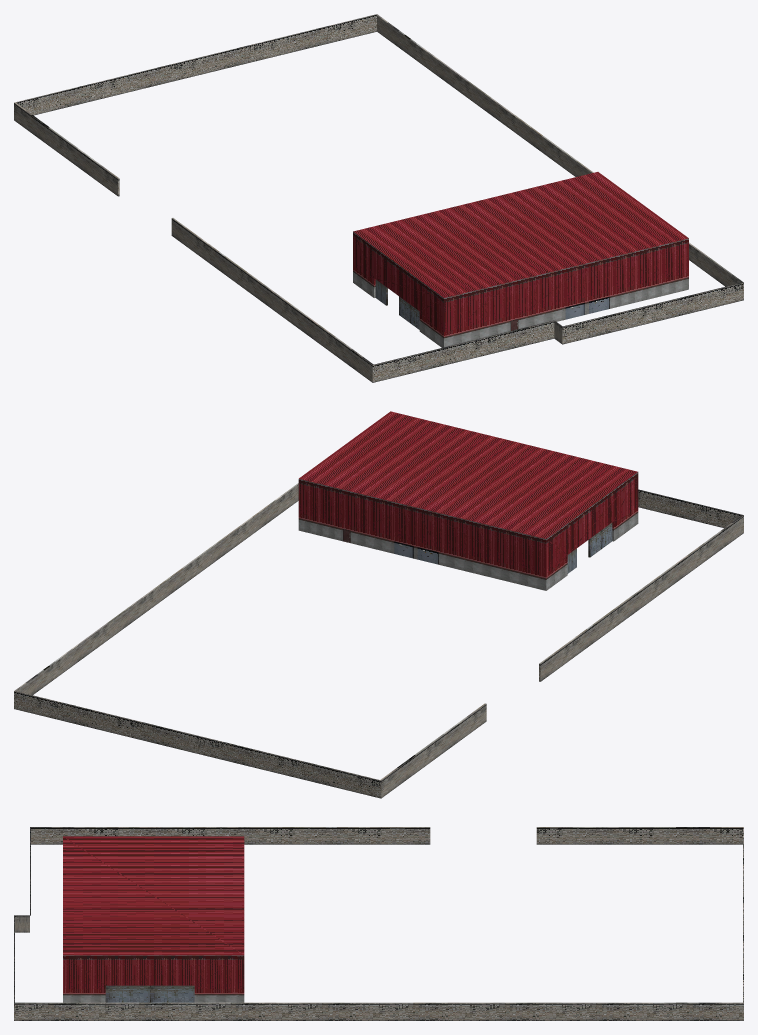
Rendered from lodabatoir.obj.
The picture shows the model from 3 angles, top to bottom: view 1: azimuth 30°, elevation 25°; view 2: azimuth 150°, elevation 25°; view 3: azimuth 270°, elevation 25°; orthographic projection.
Visible parts, largest first — view 1: lodabatoir; view 2: lodabatoir; view 3: lodabatoir.
Boxes of the visible parts, box(x1,y1,x2,y2) form: lodabatoir: box(14, 14, 743, 382); lodabatoir: box(14, 411, 743, 798); lodabatoir: box(14, 827, 743, 1020).
Bounding box in the file's own units: 79.79 × 10.77 × 140.
6 materials, 6 textured.
